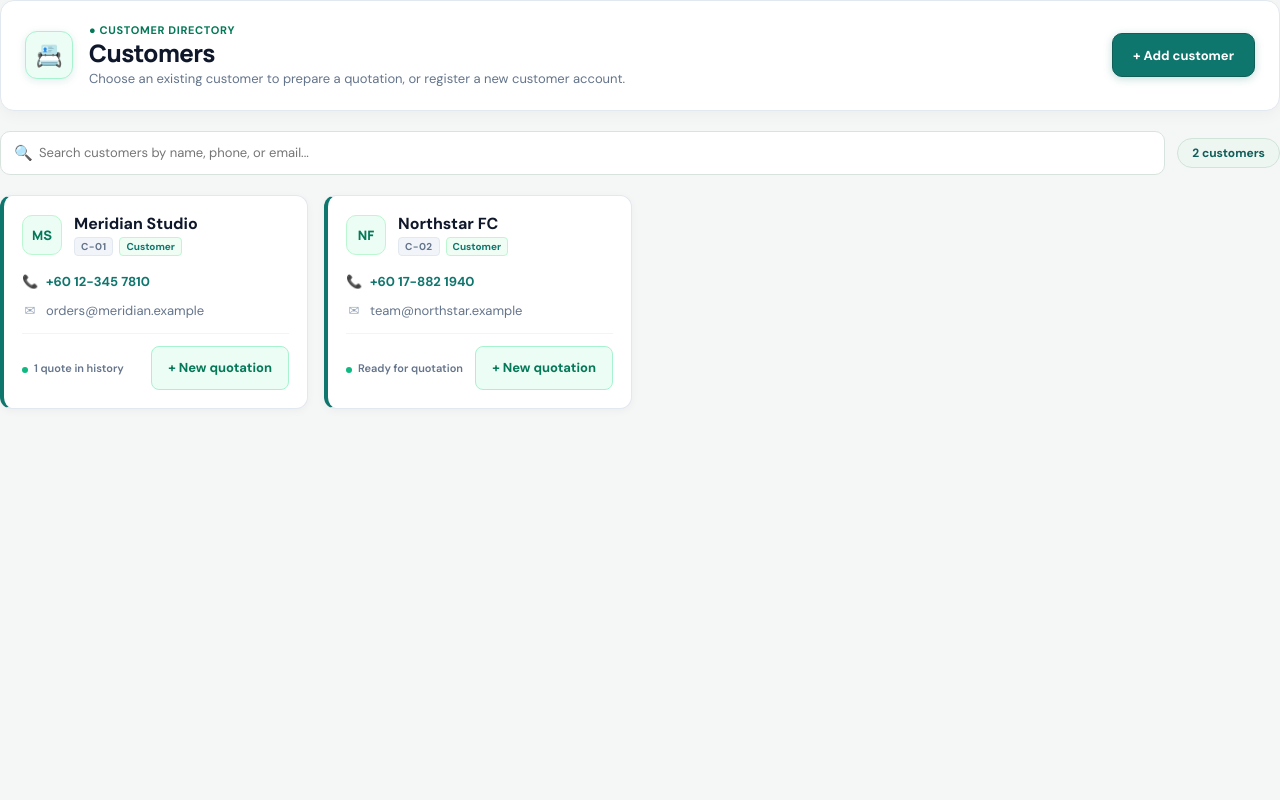
Test: ContactsView customer directory › opens quotation form with pre-selected customer when clicking "+ New quotation"
The image size is (1280, 800).
Click the button "+ New quotation" next to "1 quote in history" at (220, 368), box [151,346,289,390]
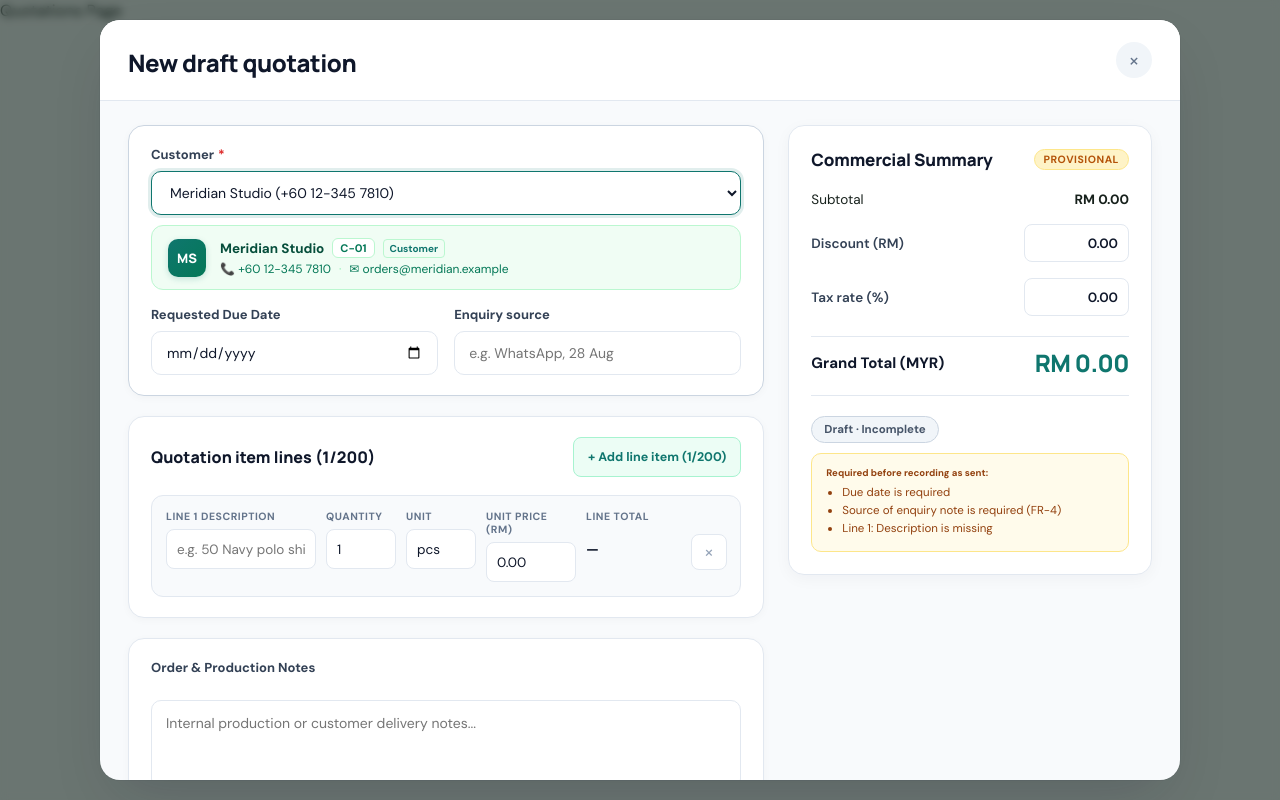
Check: the dialog "New draft quotation" is shown
Check: the dropdown labelled "Customer *" shows "Meridian Studio (+60 12-345 7810)", box [151,171,741,215]
Check: the dropdown labelled "Customer *" is enabled, box [151,171,741,215]
